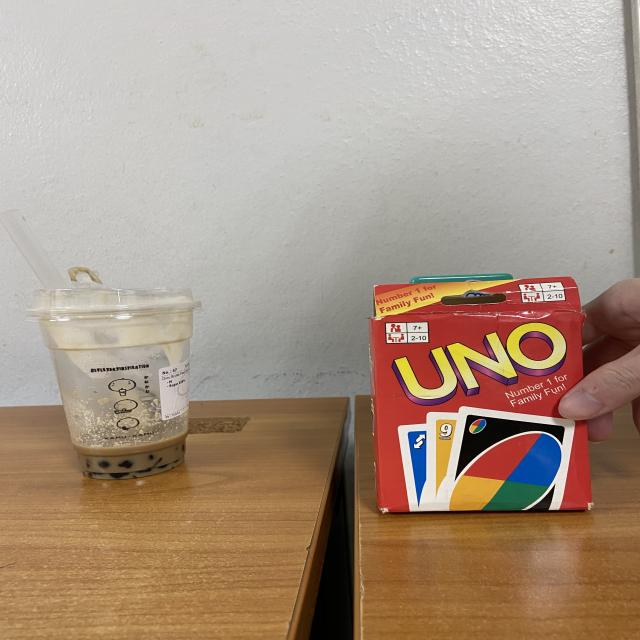cup: (24, 285, 200, 481)
